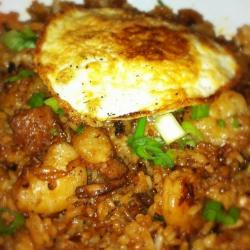omelette: (34, 5, 241, 128)
